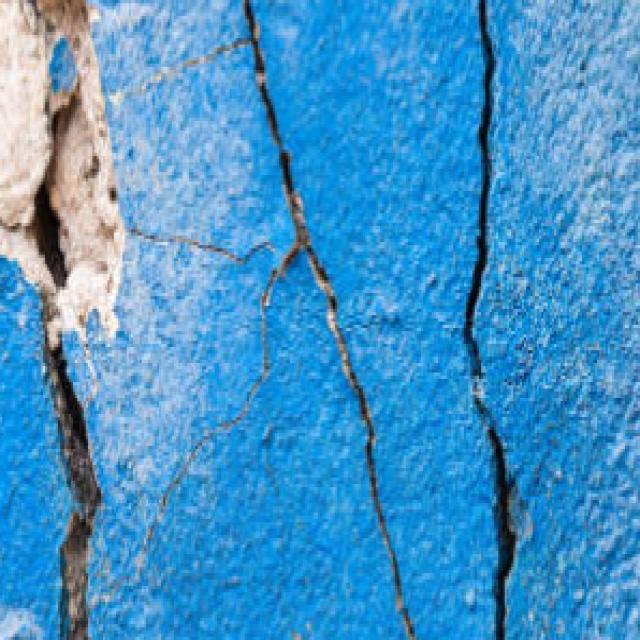branched cracks: (184, 0, 415, 639), (463, 0, 516, 639), (130, 229, 269, 262)
